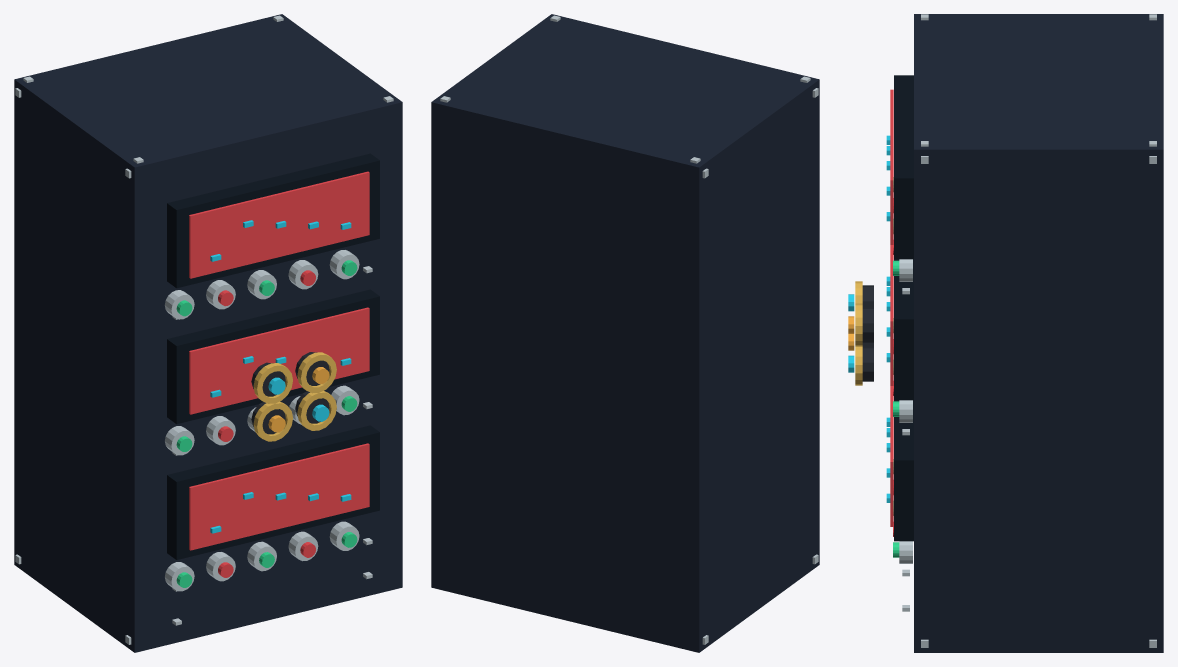
File: 48_L82_RFImmunitySafetyPLC.fbx
The picture shows the model from 3 angles, left to right: view 1: azimuth 30°, elevation 25°; view 2: azimuth 150°, elevation 25°; view 3: azimuth 270°, elevation 25°; orthographic projection. The views are drawn at different scales.
Parts seen in each view (by area): view 1: RFImmunitySafetyPLC; view 2: RFImmunitySafetyPLC; view 3: RFImmunitySafetyPLC.
Part boxes in pixels (left/top/right/bottom): RFImmunitySafetyPLC: left=14, top=14, right=402, bottom=652; RFImmunitySafetyPLC: left=431, top=14, right=819, bottom=652; RFImmunitySafetyPLC: left=848, top=14, right=1163, bottom=652.
Size of the model in its own units: 106 by 182 by 102.
